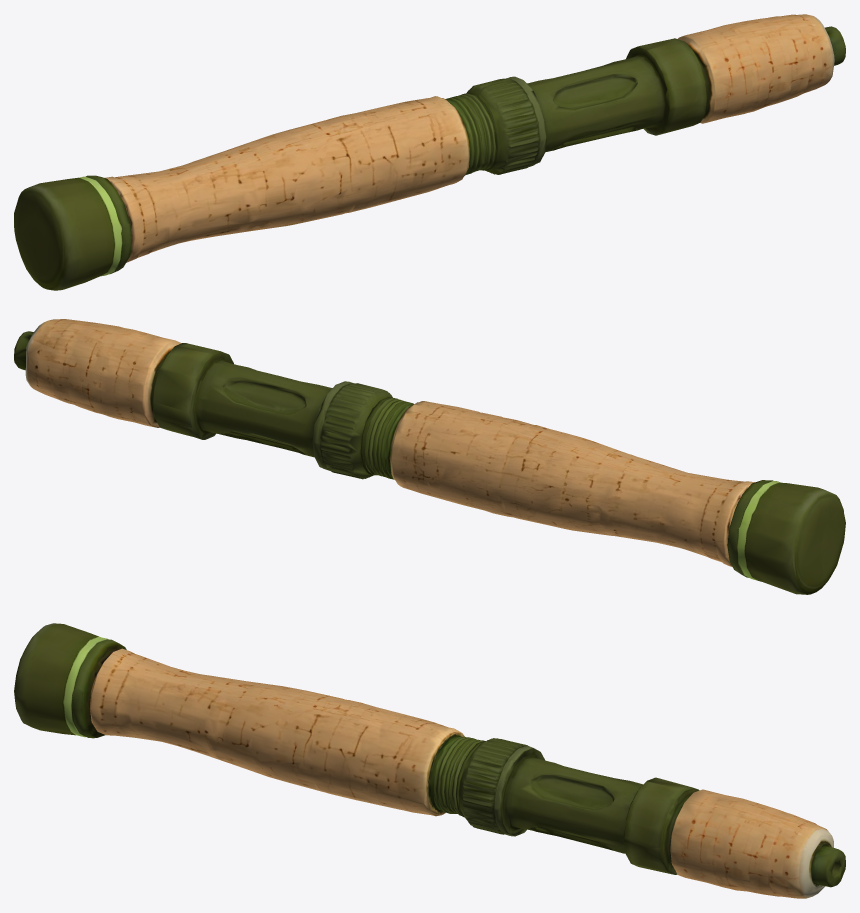
The model's file is gear-rod3.glb.
3 views of the same model, one above another, from view 1: azimuth 30°, elevation 25°; view 2: azimuth 150°, elevation 25°; view 3: azimuth 330°, elevation 25° (orthographic).
Visible parts, largest first — view 1: tripo_node_28453183-1de3-4aa7-b552-c138de8ce689; view 2: tripo_node_28453183-1de3-4aa7-b552-c138de8ce689; view 3: tripo_node_28453183-1de3-4aa7-b552-c138de8ce689.
Part boxes in pixels (x1,y1,x2,y2): tripo_node_28453183-1de3-4aa7-b552-c138de8ce689: (14, 14, 845, 290); tripo_node_28453183-1de3-4aa7-b552-c138de8ce689: (14, 319, 845, 594); tripo_node_28453183-1de3-4aa7-b552-c138de8ce689: (14, 623, 845, 898).
Bounding box in the file's own units: 0.9999 × 0.1177 × 0.1227.
1 material, 1 textured.
